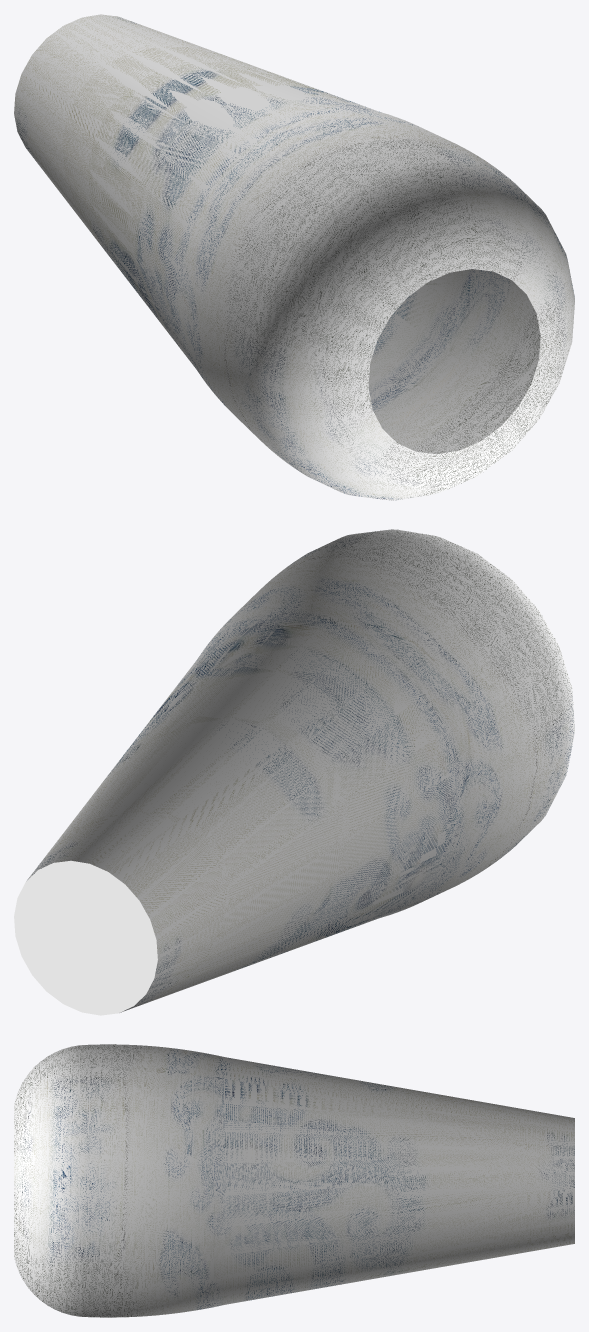
File: model_scale.obj
3 views of the same model, one above another, from view 1: azimuth 30°, elevation 25°; view 2: azimuth 150°, elevation 25°; view 3: azimuth 270°, elevation 25° (orthographic). The views are drawn at different scales.
Parts seen in each view (by area): view 1: mesh1_mesh1-geometry; view 2: mesh1_mesh1-geometry; view 3: mesh1_mesh1-geometry.
Part boxes in pixels (x1,y1,x2,y2): mesh1_mesh1-geometry: [14, 14, 574, 500]; mesh1_mesh1-geometry: [14, 529, 574, 1015]; mesh1_mesh1-geometry: [14, 1044, 574, 1317].
Size of the model in its own units: 0.0955 by 0.0955 by 0.195.
